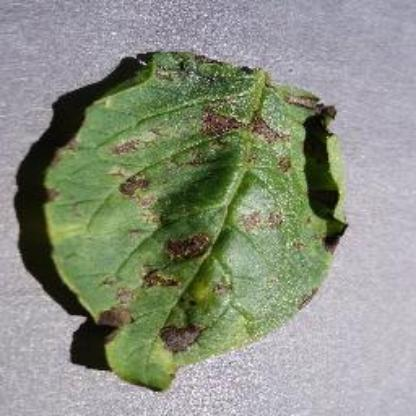Early-Blight: (35, 38, 364, 392)
